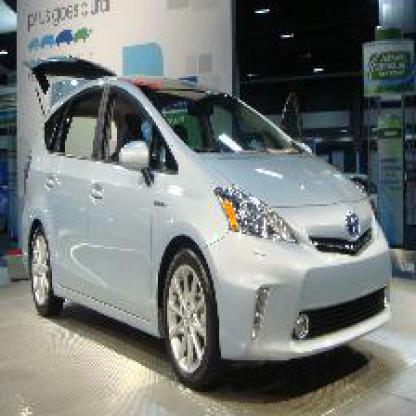not_emergency: (15, 35, 407, 375)
